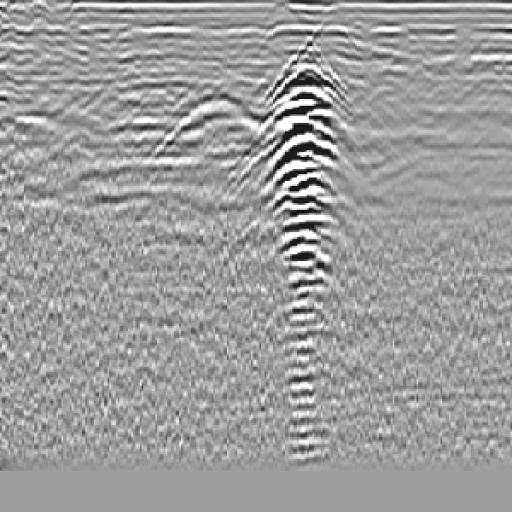metalic: (262, 16, 342, 453)
nonmetalic: (155, 85, 273, 196)
